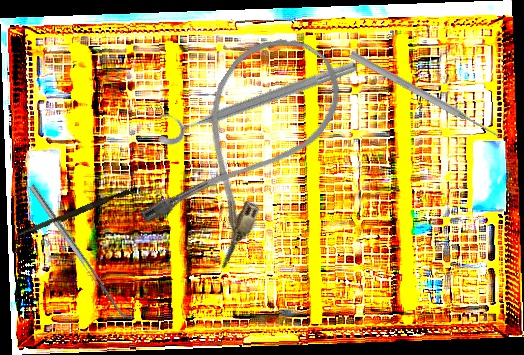Cannula: (132, 15, 359, 276)
Fixation Ring: (149, 43, 361, 150)
Pusher: (347, 49, 503, 142), (14, 186, 131, 242)
Spatula Surgical: (28, 180, 136, 326)
